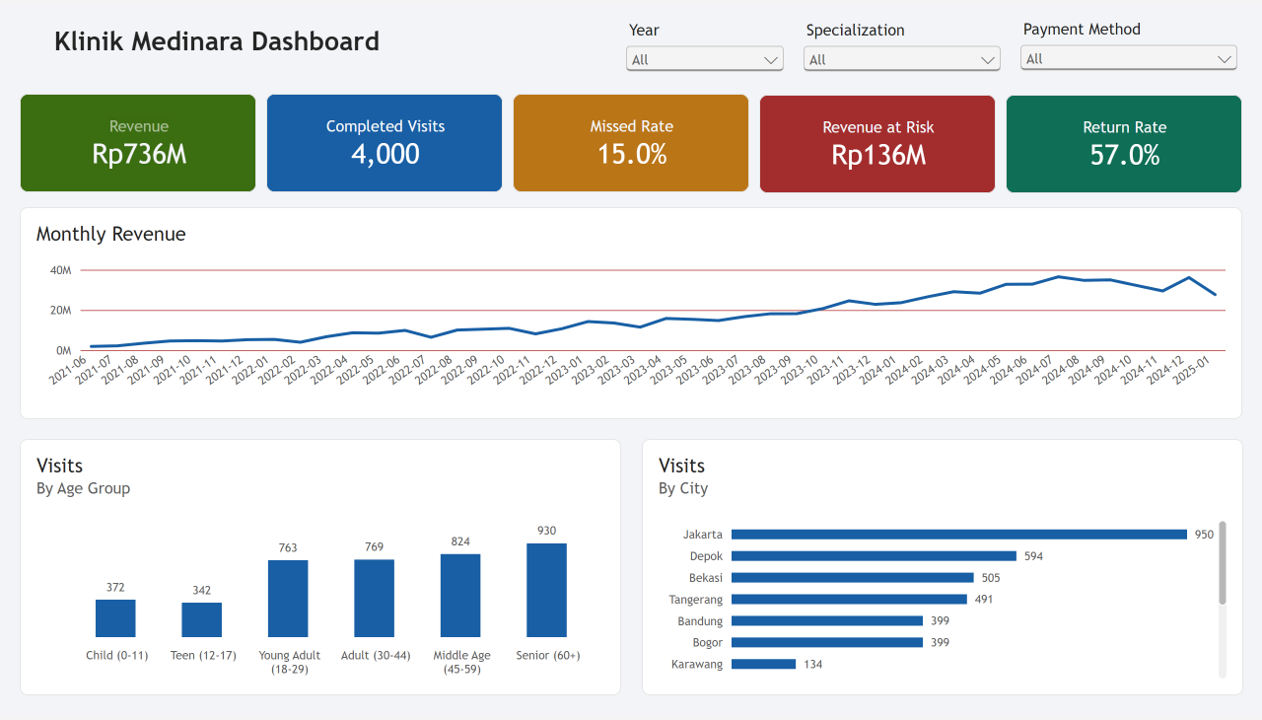

What the dashboard file says about the page in this screenshot:
{"tool":"powerbi","page":{"name":"Dashboard Medinara","canvas":[1280,720],"ordinal":0},"visuals":[{"type":"textbox","box":[20.2,15.1,400,50],"z":0},{"type":"cardVisual","fields":{"Data":["appointments.Revenue"]},"box":[20,90,240,100],"z":1000},{"type":"cardVisual","fields":{"Data":["appointments.Completed Visits"]},"box":[270,90,240,100],"z":2000},{"type":"slicer","fields":{"Values":["Calendar.Year"]},"box":[630,15.7,170,60],"z":3000},{"type":"slicer","fields":{"Values":["doctors.specialization"]},"box":[810,15.7,210,60],"z":4000},{"type":"slicer","fields":{"Values":["appointments.payment_method"]},"box":[1030,15,230,60],"z":5000},{"type":"cardVisual","fields":{"Data":["appointments.Missed Rate"]},"box":[520,90,240,100],"z":6000},{"type":"cardVisual","fields":{"Data":["appointments.Revenue at Risk"]},"box":[770,90.9,240,100],"z":7000},{"type":"cardVisual","fields":{"Data":["appointments.Return Rate"]},"box":[1020,90.9,240,100],"z":8000},{"type":"lineChart","title":"Monthly Revenue","fields":{"Category":["Calendar.Year-Month"],"Y":["appointments.Revenue"]},"box":[20,205,1240,215],"z":9000},{"type":"columnChart","title":"Visits","fields":{"Category":["patients.age_group"],"Y":["appointments.Completed Visits"]},"box":[20,440,610,260],"z":10000},{"type":"barChart","title":"Visits","fields":{"Category":["patients.city"],"Y":["appointments.Completed Visits"]},"box":[650.9,440,610,260],"z":11000}]}

Visuals, with their boxes in screenshot pixels (x1, y1, x2, y2), scaled from the page's 1280x720 canvas onto the 1262x720 screenshot:
textbox: l=20, t=15, r=414, b=65
cardVisual - appointments.Revenue: l=20, t=90, r=256, b=190
cardVisual - appointments.Completed Visits: l=266, t=90, r=503, b=190
slicer - Calendar.Year: l=621, t=16, r=789, b=76
slicer - doctors.specialization: l=799, t=16, r=1006, b=76
slicer - appointments.payment_method: l=1016, t=15, r=1242, b=75
cardVisual - appointments.Missed Rate: l=513, t=90, r=749, b=190
cardVisual - appointments.Revenue at Risk: l=759, t=91, r=996, b=191
cardVisual - appointments.Return Rate: l=1006, t=91, r=1242, b=191
"Monthly Revenue" lineChart: l=20, t=205, r=1242, b=420
"Visits" columnChart: l=20, t=440, r=621, b=700
"Visits" barChart: l=642, t=440, r=1243, b=700
